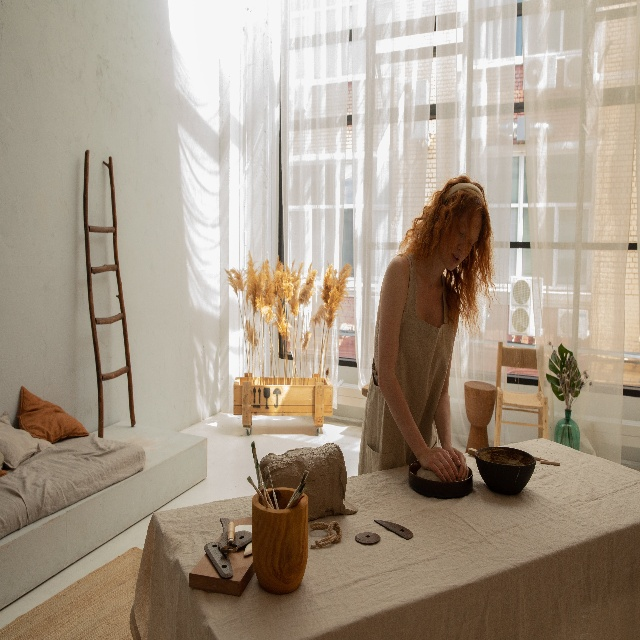Sin_guantes: (420, 445, 459, 482), (444, 445, 470, 481)
